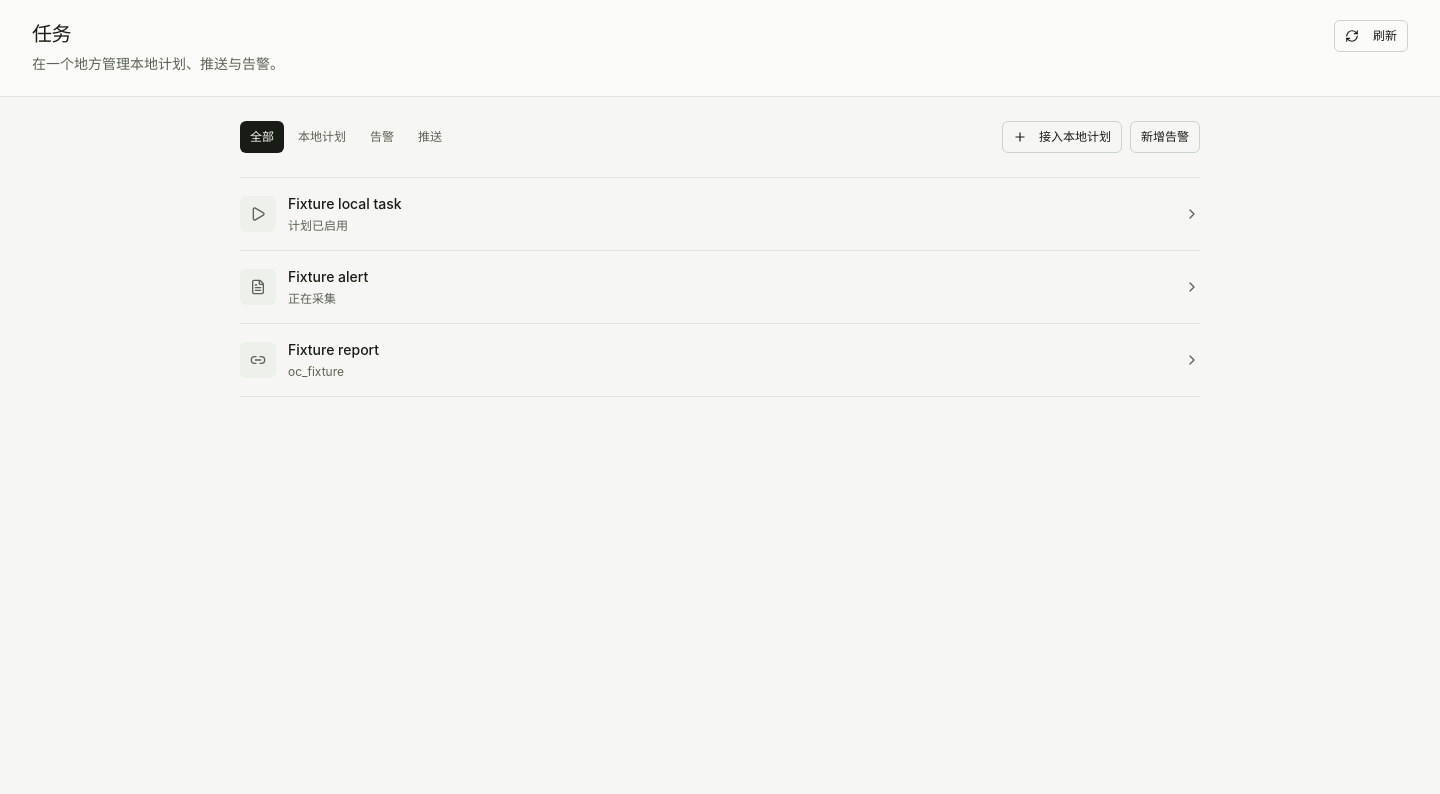
it: Channels and Tasks active surface › keeps an existing alert's group identity fixed while allowing new task entry
The width and height of the screenshot is (1440, 794).
Click the button "Fixture alert 正在采集" at (258, 287), box x1=240 y1=251 x2=1200 y2=324
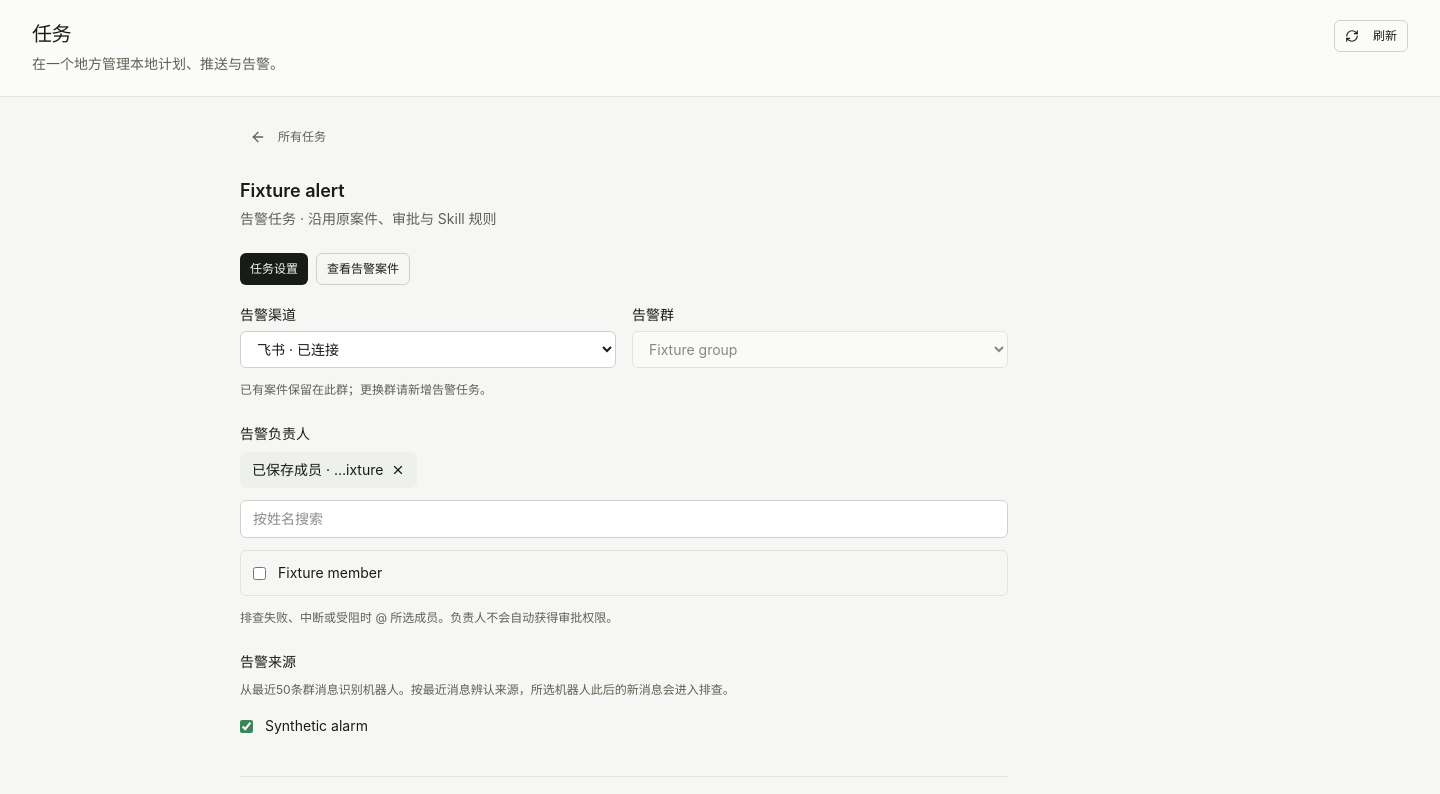
Expected: the dropdown named "告警群" is disabled, x1=632 y1=331 x2=1008 y2=368
Click the button "所有任务" at (288, 137), box x1=240 y1=121 x2=336 y2=153
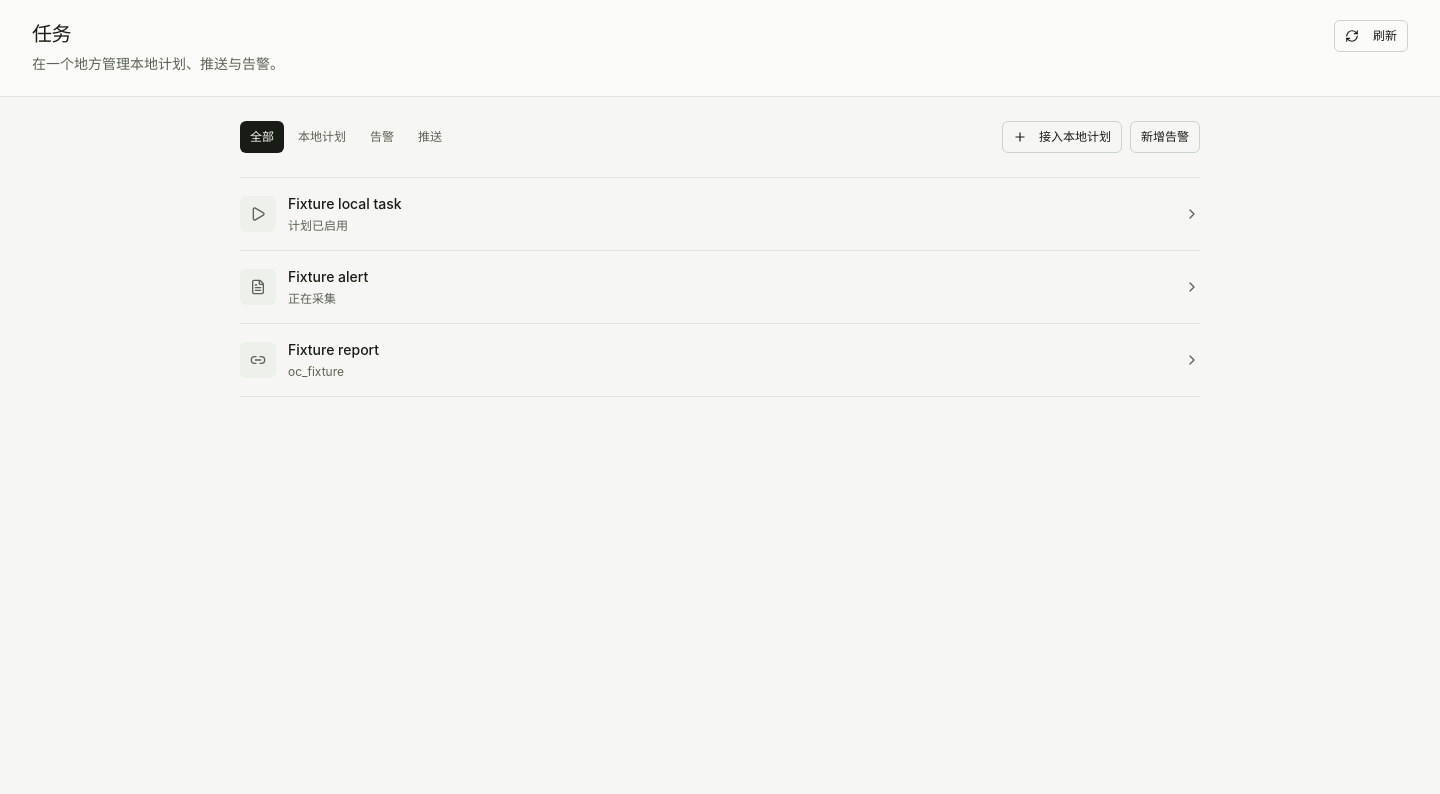
Click the button "新增告警" at (1165, 137), box x1=1130 y1=121 x2=1200 y2=153
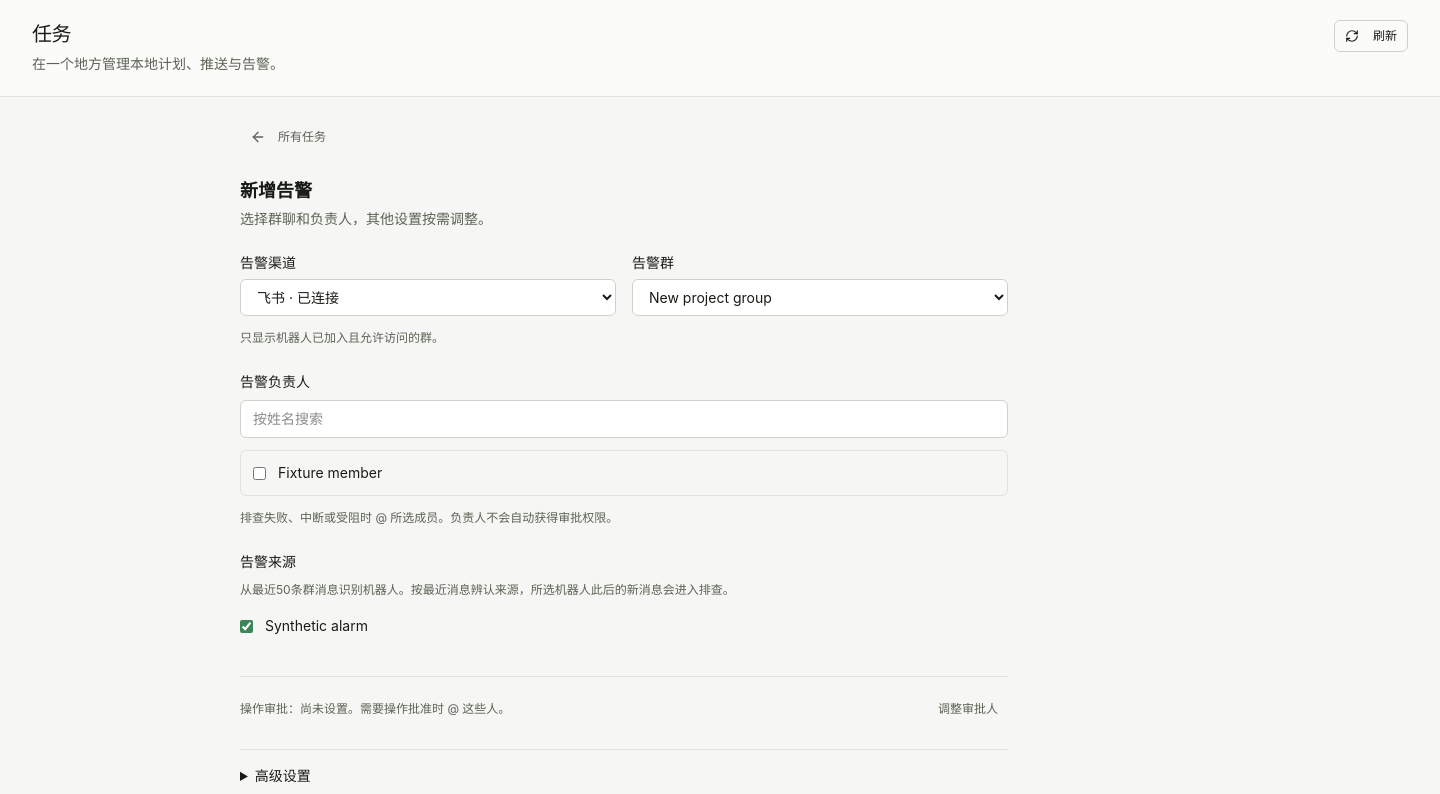
Expected: the dropdown named "告警群" is enabled, x1=632 y1=279 x2=1008 y2=316
